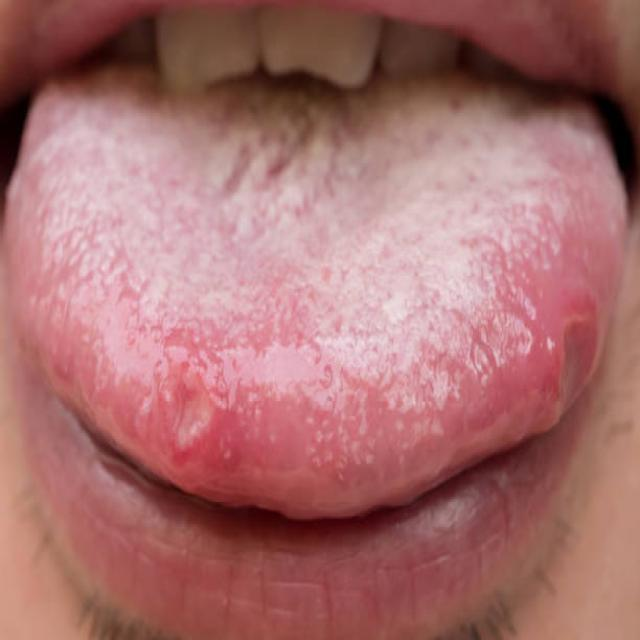processing_area: (6, 75, 633, 514)
ulcer-detection: (124, 320, 267, 494), (536, 278, 612, 438)
